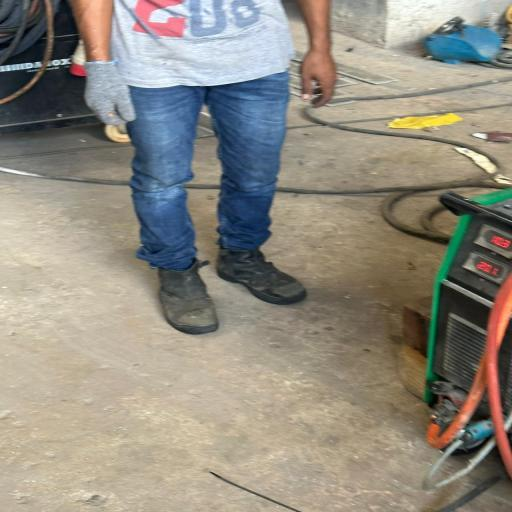safety_shoe: (139, 258, 227, 338), (216, 237, 314, 308)
